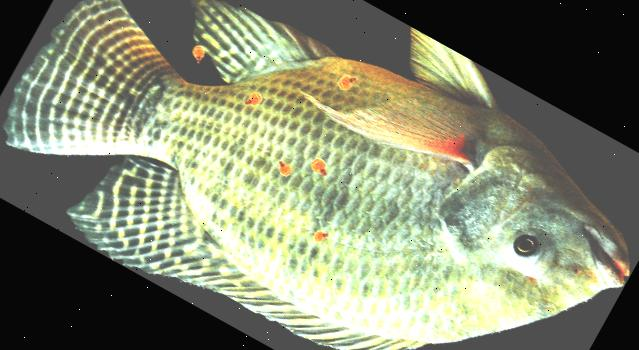Parasitic Disease: (2, 0, 628, 350)
